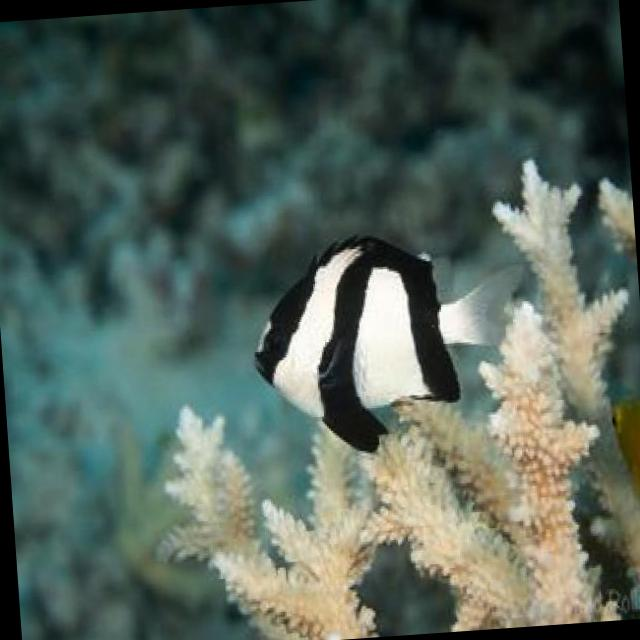Three_striped DasmselFish: (243, 220, 526, 460)
